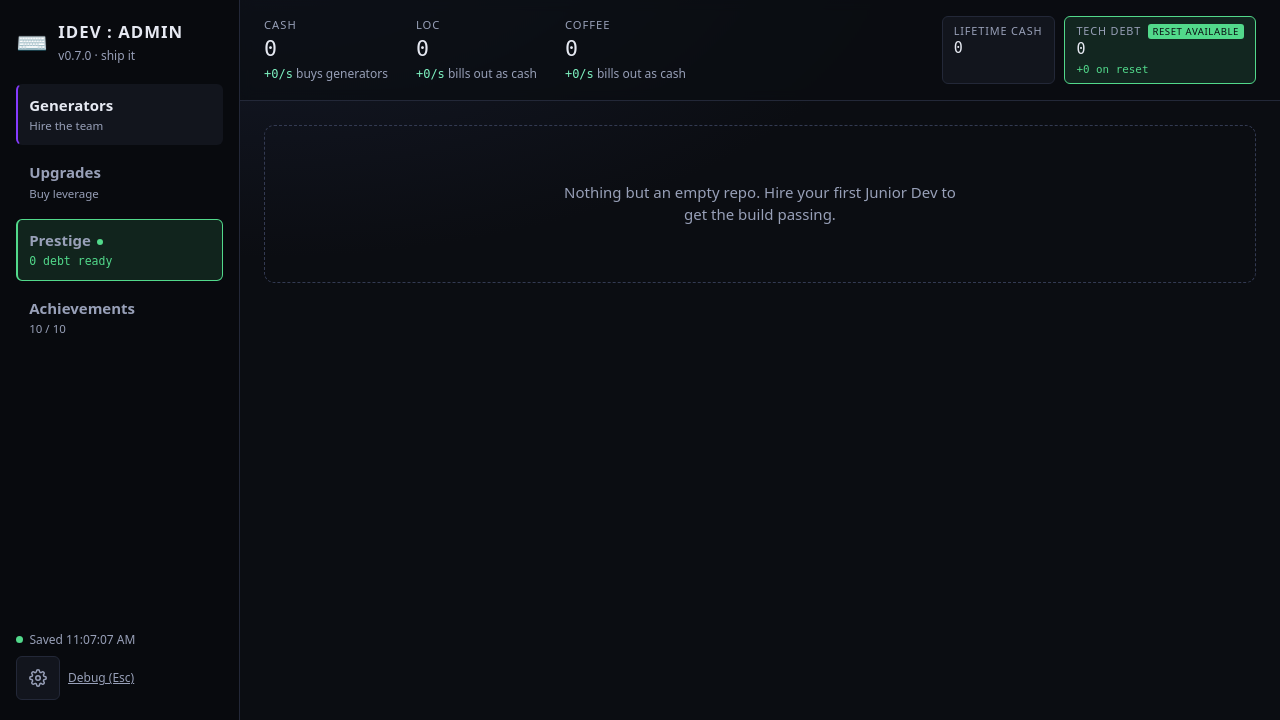
Scenario: the settings surface › every control is labelled
What coordinates should you click on to do the following:
click the button named "settings"
I would click on:
 (38, 678)
Its box is left=16, top=656, right=60, bottom=700.
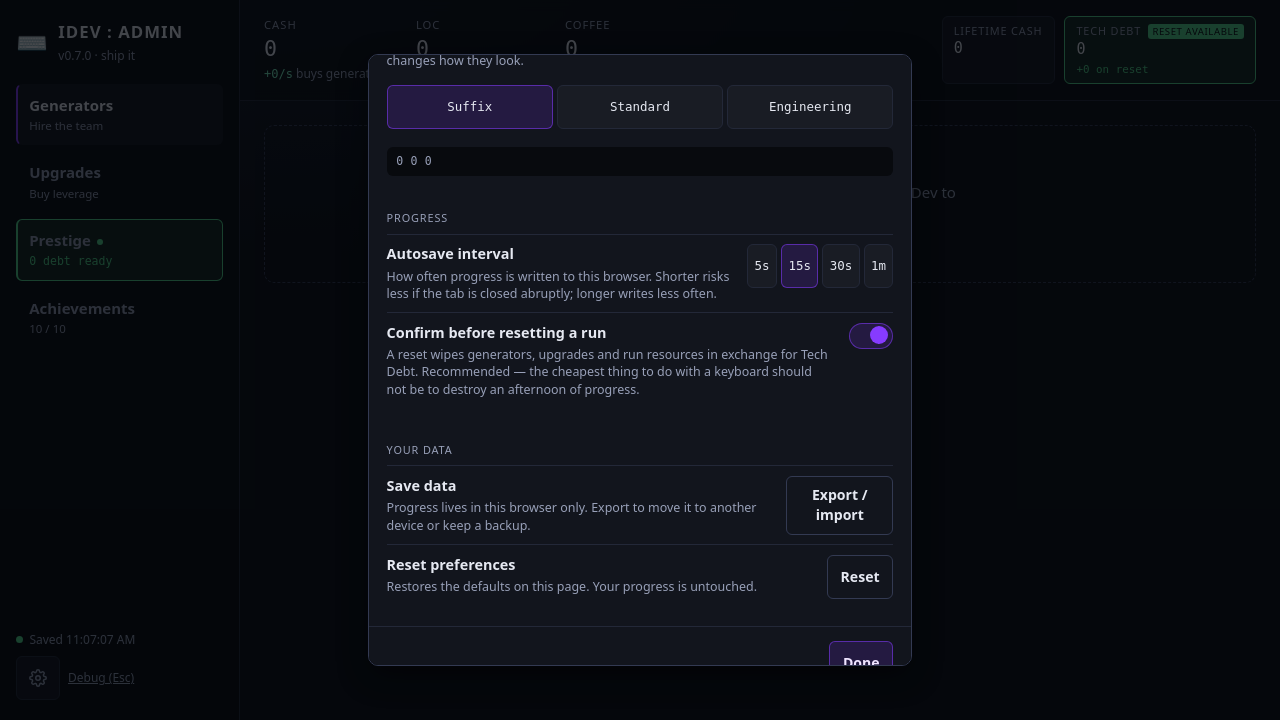
Expected: the radio button does not show ""
Expected: the label is shown, left=387, top=312, right=893, bottom=408
